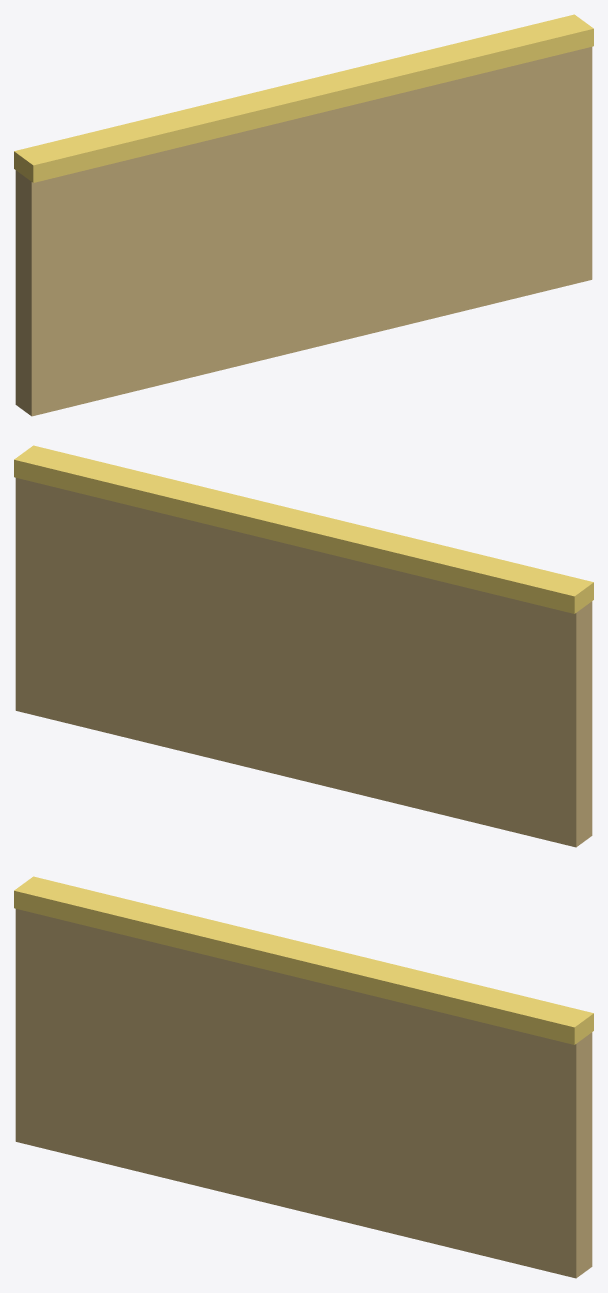
Rendered from wall_block.glb.
The picture shows the model from 3 angles, top to bottom: view 1: azimuth 30°, elevation 25°; view 2: azimuth 150°, elevation 25°; view 3: azimuth 330°, elevation 25°; orthographic projection.
Visible parts, largest first — view 1: WallBlock; view 2: WallBlock; view 3: WallBlock.
Boxes of the visible parts, x1,y1,x2,y2 form: WallBlock: (14, 14, 593, 416); WallBlock: (14, 445, 593, 847); WallBlock: (14, 876, 593, 1278).
Size of the model in its own units: 10 by 4.3 by 0.6.
